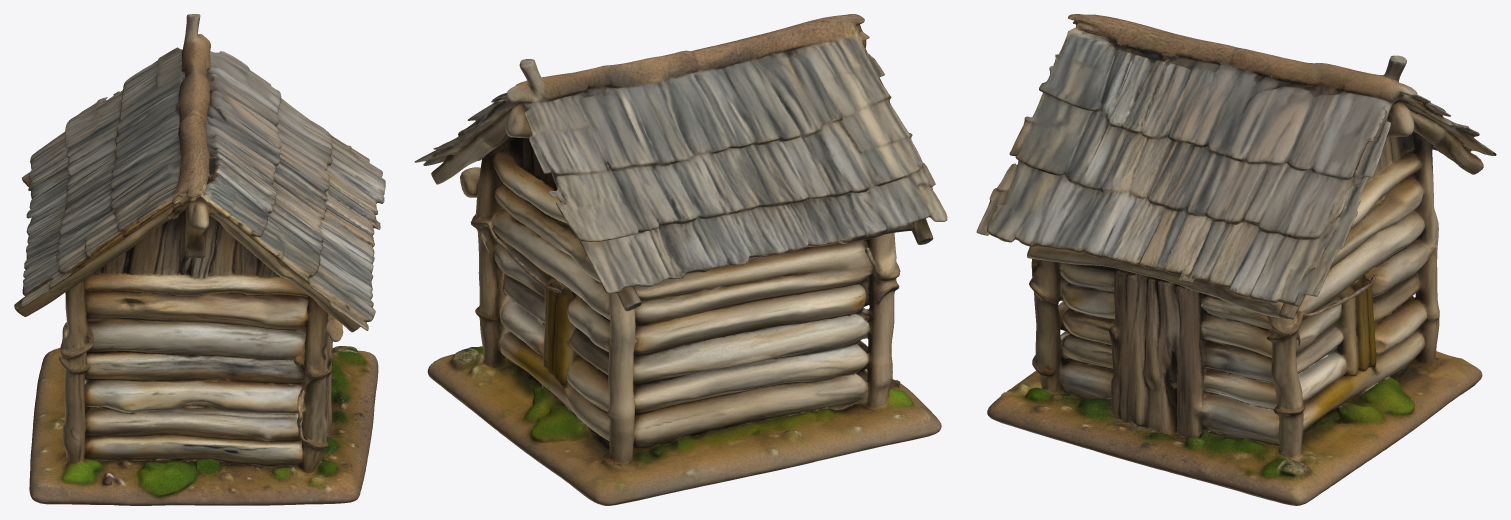
File: hut-log.glb
3 views of the same model, side by side, from view 1: azimuth 30°, elevation 25°; view 2: azimuth 150°, elevation 25°; view 3: azimuth 270°, elevation 25° (orthographic). The views are drawn at different scales.
Bounding box in the file's own units: 0.8939 × 0.7163 × 0.8904.
1 material, 1 textured.
